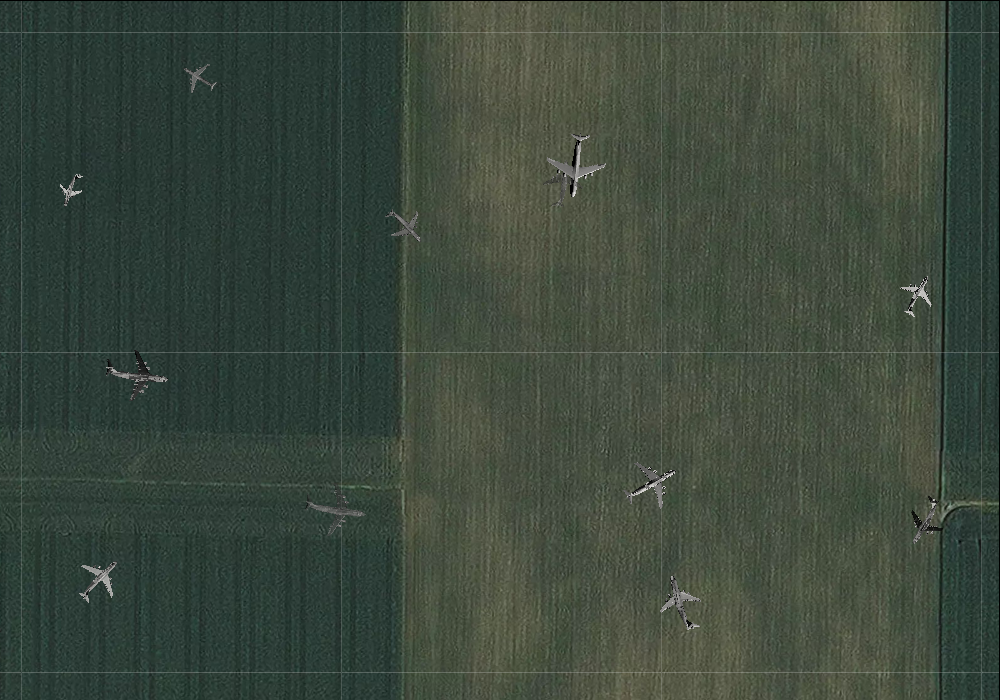plane: (612, 447, 689, 521), (64, 545, 134, 615), (542, 129, 610, 200), (300, 475, 369, 542), (101, 340, 171, 406), (649, 568, 714, 638), (892, 487, 956, 554), (374, 196, 434, 256), (889, 266, 947, 324), (537, 157, 587, 209), (174, 53, 223, 101), (51, 168, 90, 211)
